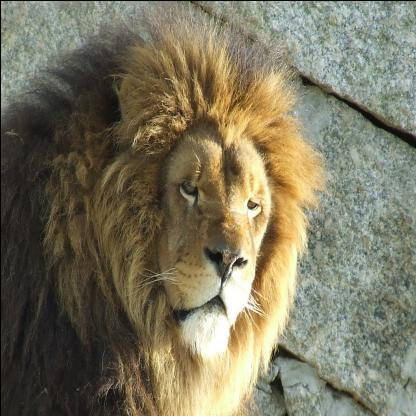lion: (90, 22, 304, 370)
